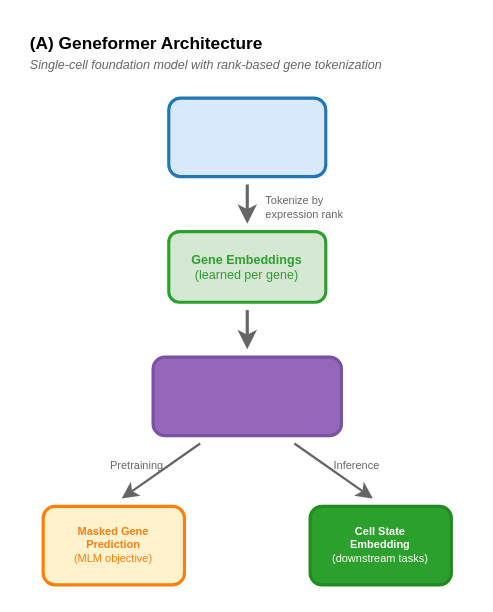
Image size: 493x612. Some labels were removed from this diagram. Here are the shapes that lost their labels. From the top down, the box of each, then its label:
(166, 96, 327, 177): Single Cell (rank-ordered genes)
(151, 355, 342, 436): Transformer Encoder Self-attention over genes
